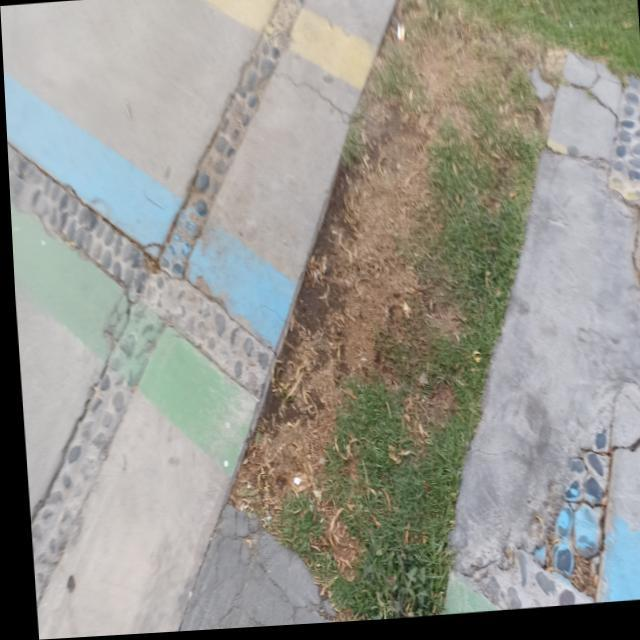hole: (211, 184, 506, 601), (521, 392, 625, 594)
